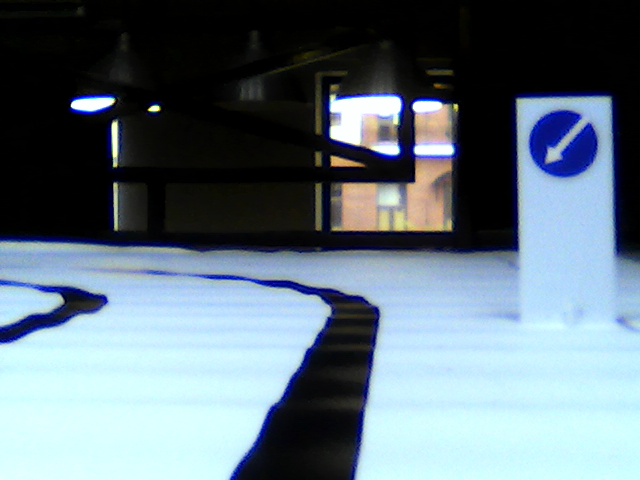prep: (525, 107, 603, 179)
